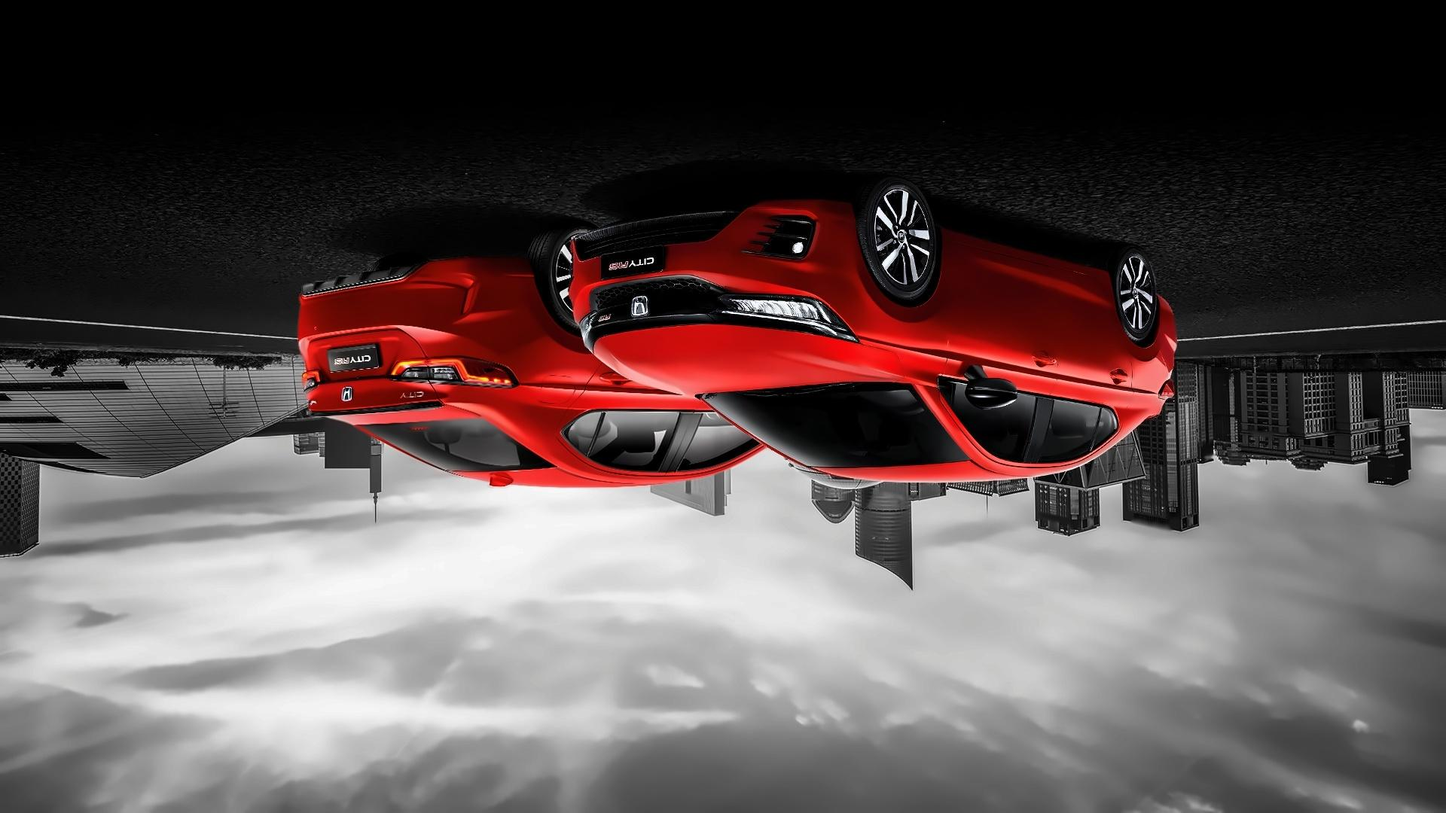Car boot: (273, 326, 494, 432)
Car hood: (605, 323, 918, 397)
Driver-s door - -F-R-: (926, 218, 1060, 481)
Fender - -F-R-: (834, 200, 965, 403)
Fender - -R-L-: (487, 283, 627, 451)
Fender - -R-R-: (1114, 262, 1182, 451)
Front bumper: (567, 200, 868, 312)
Headlight - -L-: (576, 309, 608, 358)
Headlight - -R-: (728, 292, 860, 346)
Passenger-s door - -R-R-: (1032, 217, 1135, 480)
Rear bumper: (289, 252, 559, 357)
Rear light - -L-: (392, 358, 519, 394)
Rear light - -R-: (294, 365, 323, 402)
Side bumper - -R-: (938, 221, 1117, 317)
Side mirror - -R-: (954, 361, 1021, 409)
